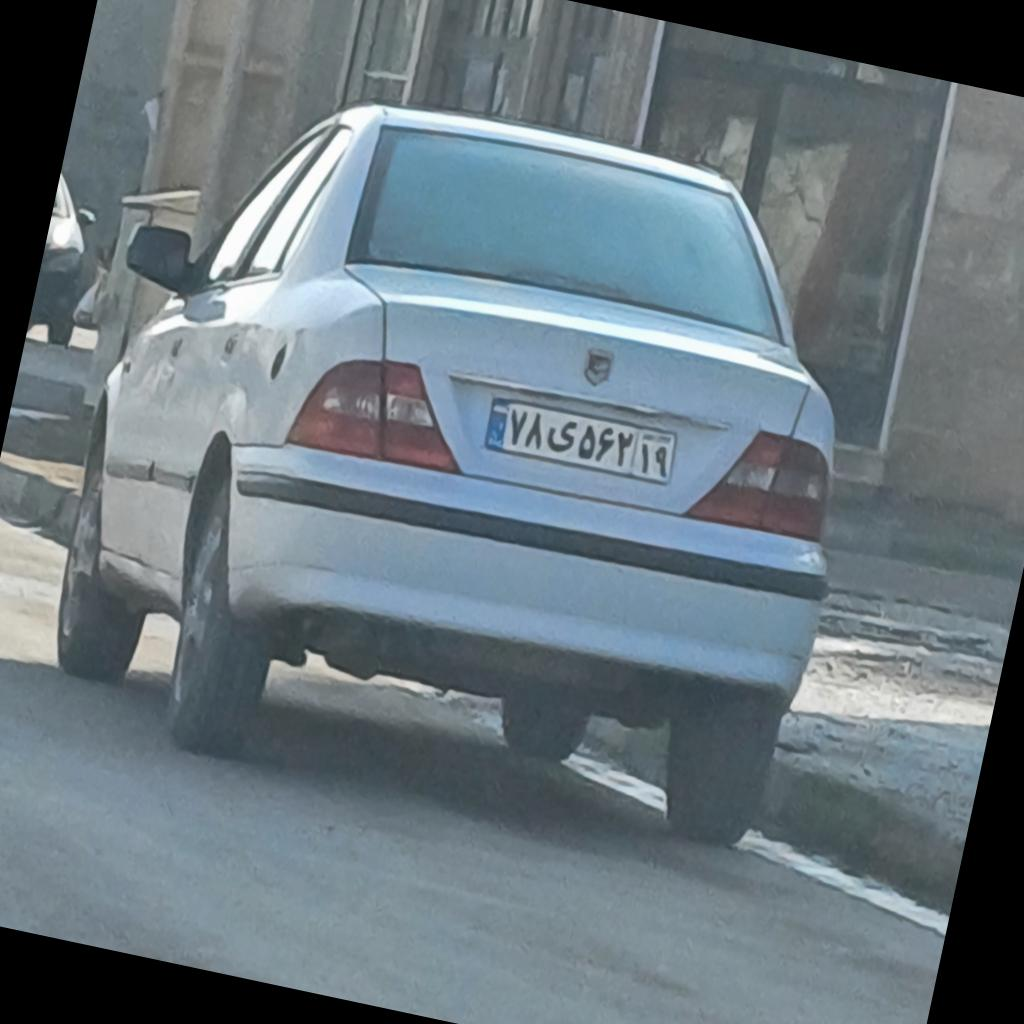Plates: (484, 394, 680, 484)
